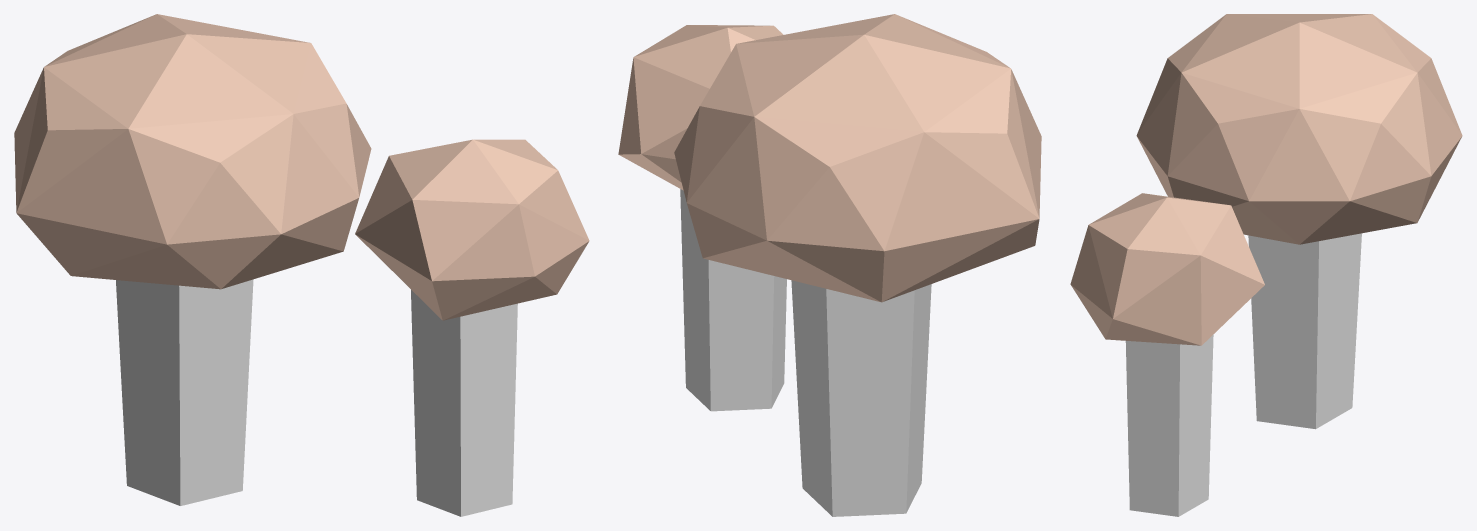
The model's file is Mushroom_g_03.fbx.
3 renders of one model, left to right at view 1: azimuth 30°, elevation 25°; view 2: azimuth 150°, elevation 25°; view 3: azimuth 270°, elevation 25°, orthographic. The views are drawn at different scales.
Visible parts, largest first — view 1: Mushroom_g_03; view 2: Mushroom_g_03; view 3: Mushroom_g_03.
Part boxes in pixels (bbox=[...]): Mushroom_g_03: bbox=[14, 14, 589, 516]; Mushroom_g_03: bbox=[618, 14, 1041, 516]; Mushroom_g_03: bbox=[1070, 14, 1462, 516].
Bounding box in the file's own units: 0.3094 × 0.2879 × 0.2611.
